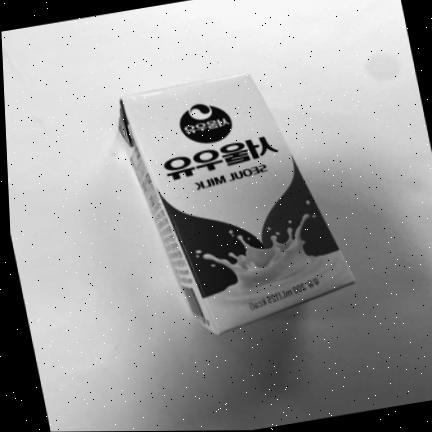milk_green: (118, 72, 355, 334)
